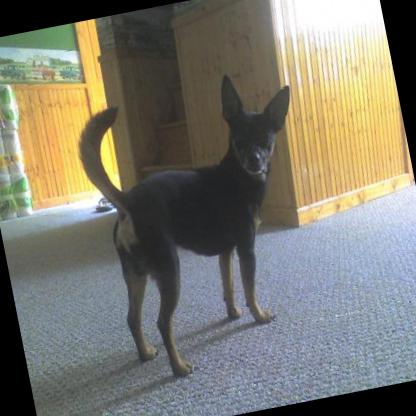miniature_pinscher: (67, 60, 338, 388)
